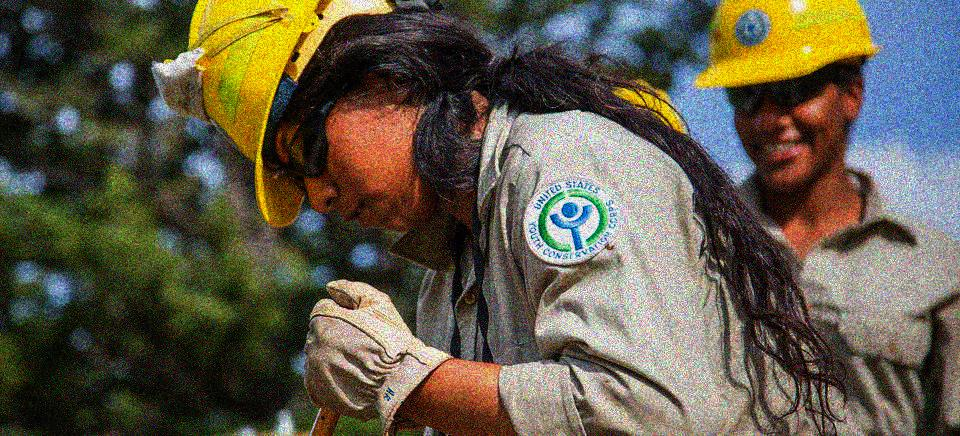helmet: (146, 1, 482, 231), (691, 1, 888, 199)
